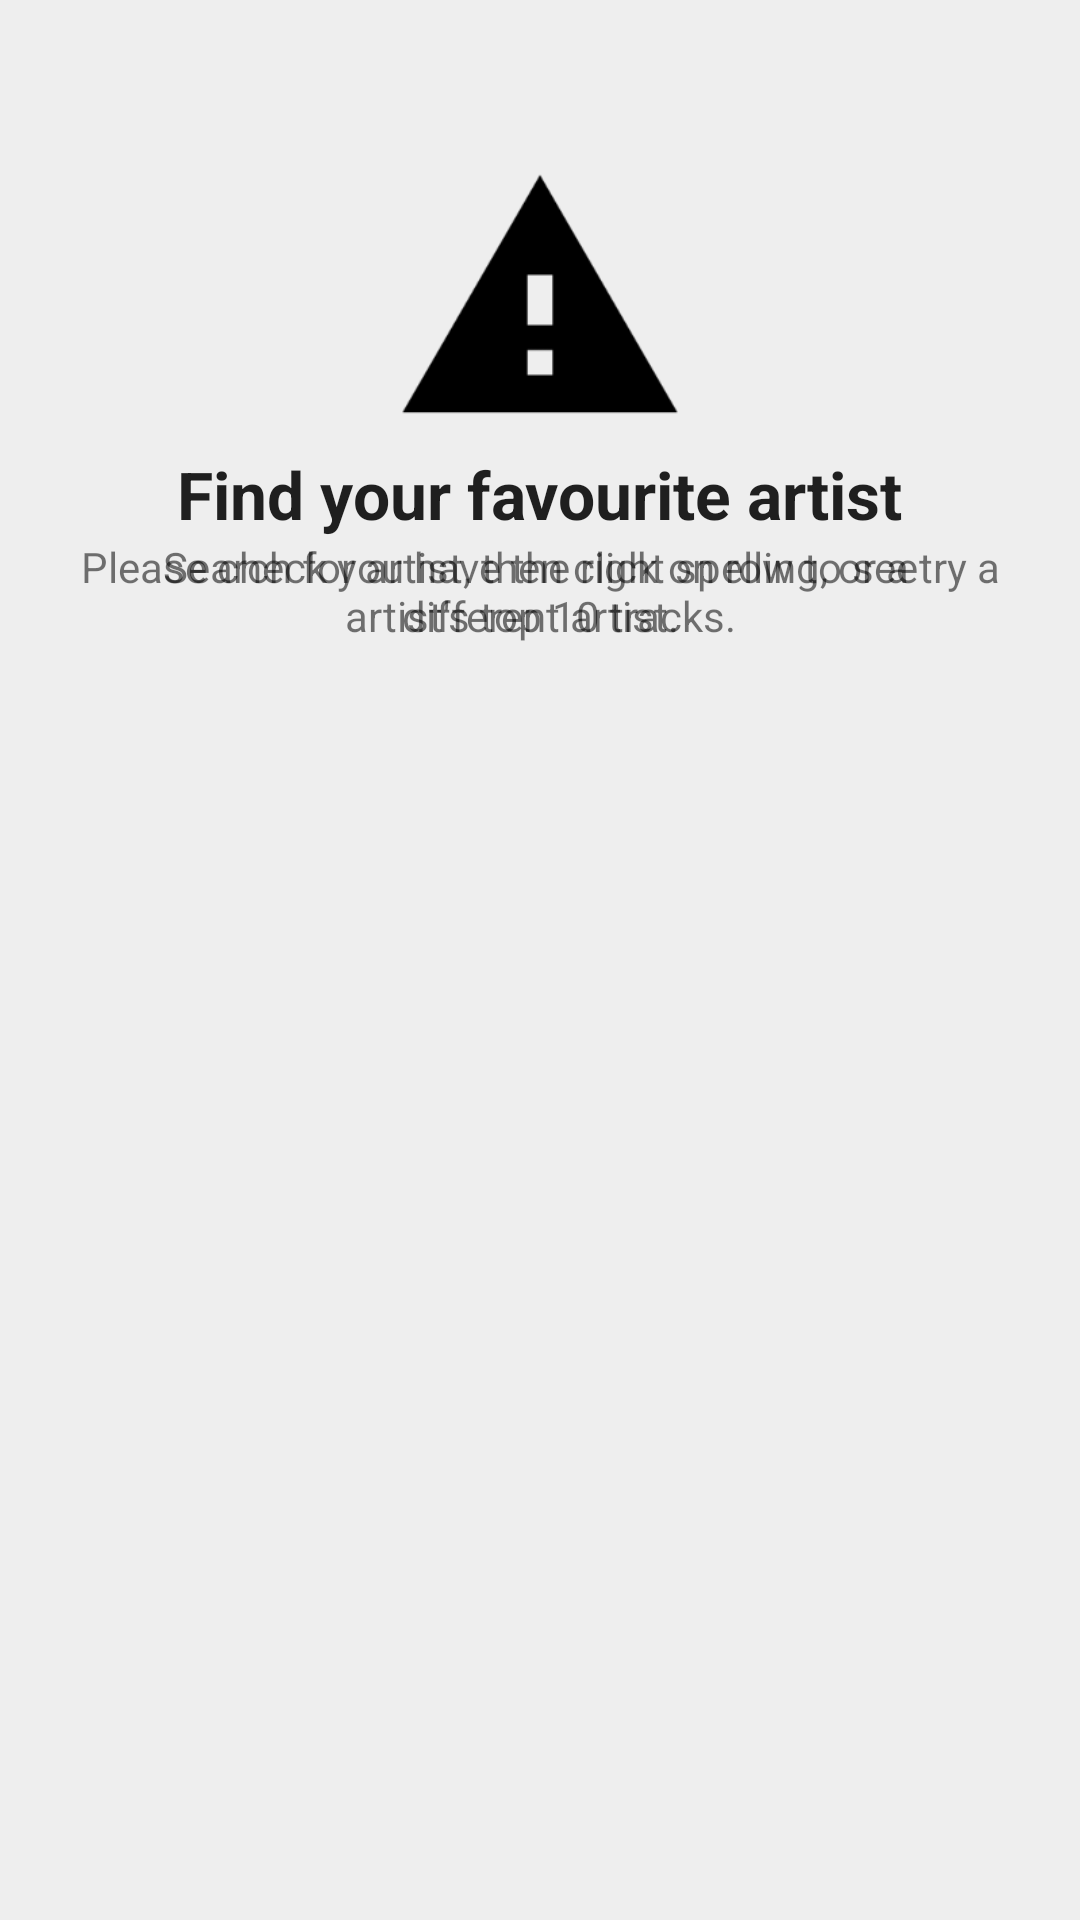

Icons on this 1080 x 1920 Android screen, each with its box as (x1, y1, x2, y2):
Alert Image: (402, 175, 678, 413)
